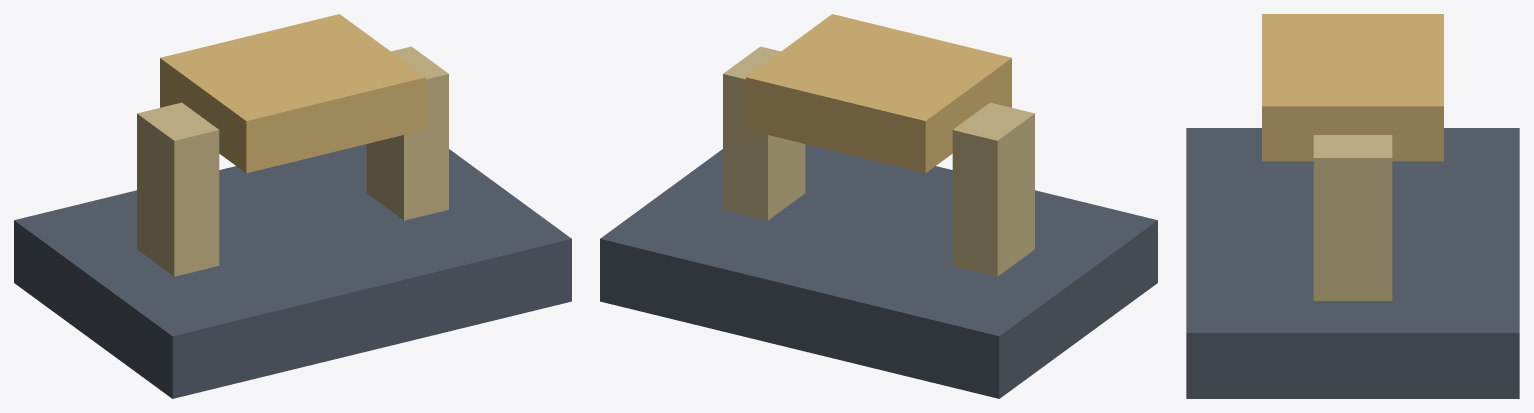
The picture shows the model from 3 angles, left to right: view 1: azimuth 30°, elevation 25°; view 2: azimuth 150°, elevation 25°; view 3: azimuth 270°, elevation 25°; orthographic projection. The views are drawn at different scales.
Visible parts, largest first — view 1: part0000__PSMAT__Connector_Polymer, part0003__PSMAT__Warning_Amber, part0001__PSMAT__Gold_ENIG, part0002__PSMAT__Gold_ENIG; view 2: part0000__PSMAT__Connector_Polymer, part0003__PSMAT__Warning_Amber, part0001__PSMAT__Gold_ENIG, part0002__PSMAT__Gold_ENIG; view 3: part0000__PSMAT__Connector_Polymer, part0003__PSMAT__Warning_Amber, part0002__PSMAT__Gold_ENIG.
Part boxes in pixels (<box>): part0000__PSMAT__Connector_Polymer: <box>14,144,571,398</box>; part0003__PSMAT__Warning_Amber: <box>160,14,425,173</box>; part0001__PSMAT__Gold_ENIG: <box>137,102,219,276</box>; part0002__PSMAT__Gold_ENIG: <box>366,46,448,220</box>; part0000__PSMAT__Connector_Polymer: <box>600,144,1157,398</box>; part0003__PSMAT__Warning_Amber: <box>746,14,1011,173</box>; part0001__PSMAT__Gold_ENIG: <box>952,102,1034,276</box>; part0002__PSMAT__Gold_ENIG: <box>723,46,805,220</box>; part0000__PSMAT__Connector_Polymer: <box>1186,128,1519,398</box>; part0003__PSMAT__Warning_Amber: <box>1262,14,1443,161</box>; part0002__PSMAT__Gold_ENIG: <box>1313,135,1392,300</box>.
Bounding box in the file's own units: 0.008 × 0.0047 × 0.0055.
